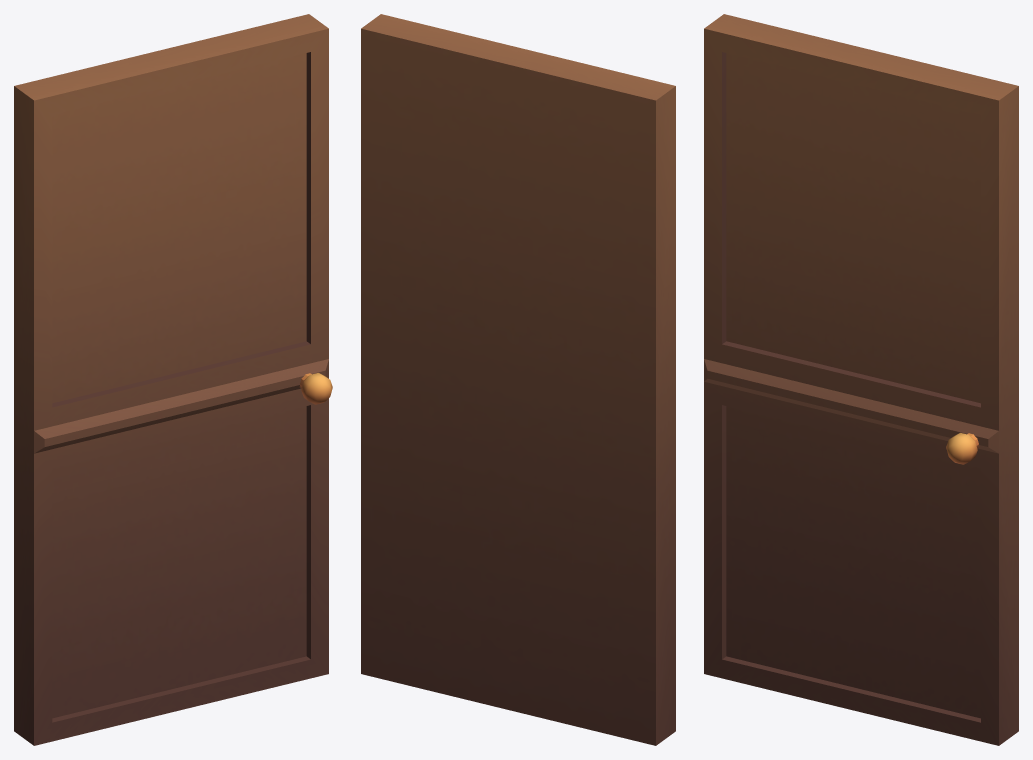
Rendered from M_door.FBX.
3 renders of one model, left to right at view 1: azimuth 30°, elevation 25°; view 2: azimuth 150°, elevation 25°; view 3: azimuth 330°, elevation 25°, orthographic.
Parts seen in each view (by area): view 1: Box017; view 2: Box017; view 3: Box017.
Boxes of the visible parts, x1,y1,x2,y2 form: Box017: (14,14,332,745); Box017: (361,14,675,745); Box017: (704,14,1018,745).
Size of the model in its own units: 107 by 25.5 by 224.
